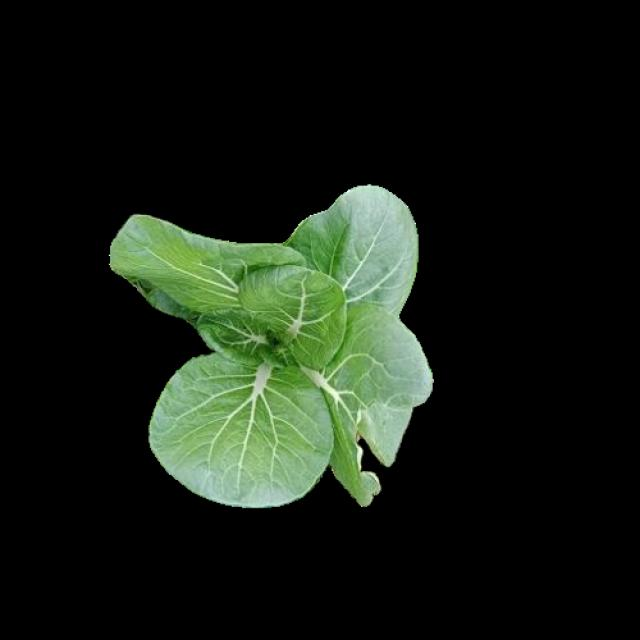mature: (110, 184, 429, 507)
unhealthy: (326, 306, 429, 495)
